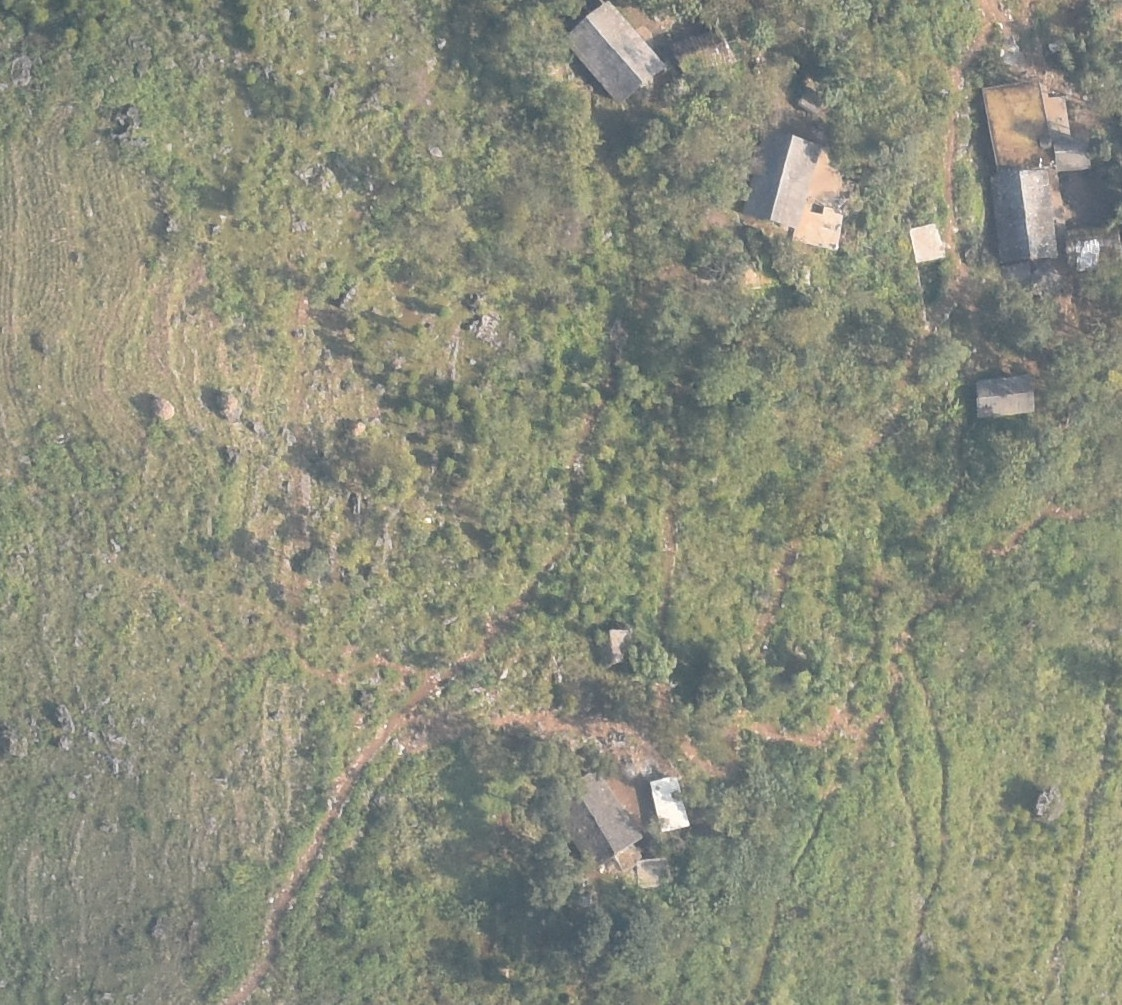building: (562, 1, 667, 103), (536, 772, 646, 869), (741, 131, 822, 226), (990, 169, 1060, 261), (982, 79, 1054, 168), (972, 373, 1036, 415), (648, 775, 695, 832), (788, 205, 844, 250), (595, 629, 640, 669), (908, 224, 946, 263)
